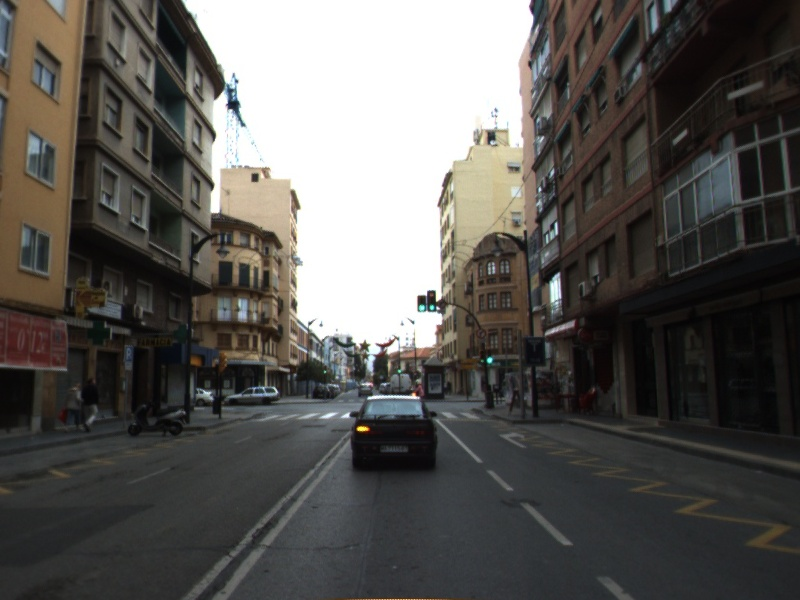RIGHT: (497, 429, 530, 450)
